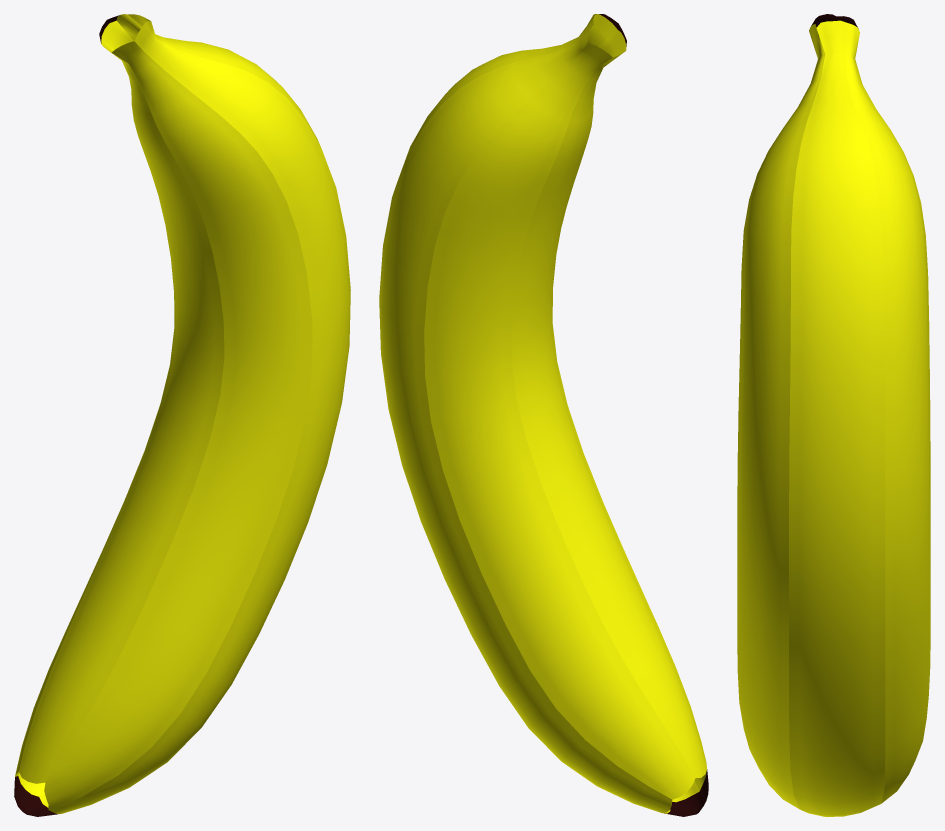
Rendered from Banana.obj.
The picture shows the model from 3 angles, left to right: view 1: azimuth 30°, elevation 25°; view 2: azimuth 150°, elevation 25°; view 3: azimuth 270°, elevation 25°; orthographic projection. The views are drawn at different scales.
Parts seen in each view (by area): view 1: Banana_10, Banana_09, Banana_11, Banana_12, Banana_08, Banana_End02, Banana_07; view 2: Banana_08, Banana_07, Banana_09, Banana_12, Banana_11, Banana_End02; view 3: Banana_12, Banana_11, Banana_07.
Part boxes in pixels (x1=…): Banana_10: x1=44, y1=41, x2=312, y2=809; Banana_09: x1=19, y1=43, x2=224, y2=783; Banana_11: x1=49, y1=21, x2=350, y2=814; Banana_12: x1=39, y1=14, x2=320, y2=807; Banana_08: x1=15, y1=20, x2=165, y2=776; Banana_End02: x1=14, y1=776, x2=57, y2=816; Banana_07: x1=18, y1=14, x2=178, y2=796; Banana_08: x1=424, y1=44, x2=695, y2=799; Banana_07: x1=379, y1=26, x2=672, y2=812; Banana_09: x1=512, y1=51, x2=706, y2=777; Banana_12: x1=394, y1=14, x2=670, y2=813; Banana_11: x1=587, y1=14, x2=699, y2=802; Banana_End02: x1=664, y1=769, x2=708, y2=816; Banana_12: x1=789, y1=20, x2=885, y2=816; Banana_11: x1=737, y1=24, x2=825, y2=809; Banana_07: x1=840, y1=21, x2=930, y2=803.
Bounding box in the file's own units: 42.49 × 100 × 21.26.
